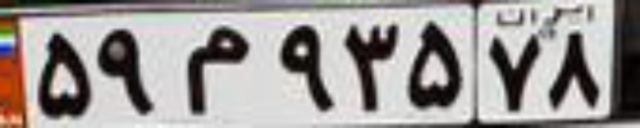3: (342, 21, 399, 111)
5: (408, 19, 466, 108), (35, 33, 90, 119)
7: (488, 35, 542, 111)
8: (546, 31, 600, 112)
9: (275, 22, 338, 112), (96, 29, 156, 115)
mim: (185, 26, 251, 117)
